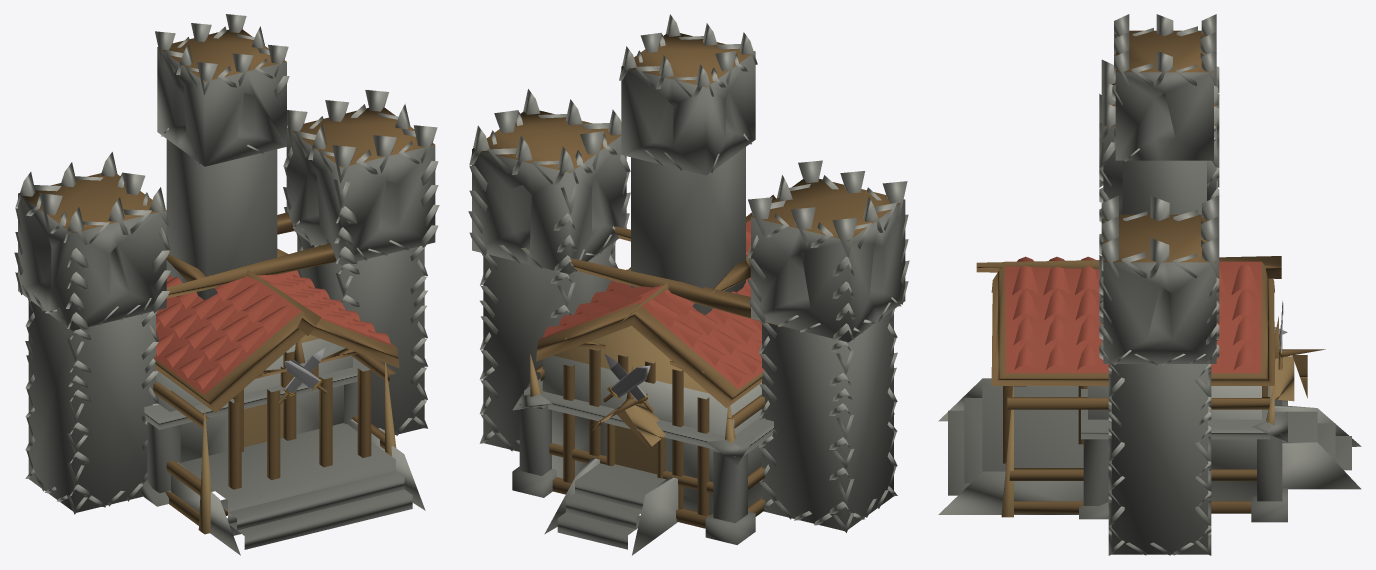
The model's file is tower-1-3.glb.
3 renders of one model, left to right at view 1: azimuth 30°, elevation 25°; view 2: azimuth 150°, elevation 25°; view 3: azimuth 270°, elevation 25°, orthographic. The views are drawn at different scales.
Visible parts, largest first — view 1: tower:1-3; view 2: tower:1-3; view 3: tower:1-3.
Boxes of the visible parts, x1,y1,x2,y2 form: tower:1-3: (14,14,439,555); tower:1-3: (468,14,909,555); tower:1-3: (938,14,1361,555).
Size of the model in its own units: 2.4 by 2.59 by 2.3.
